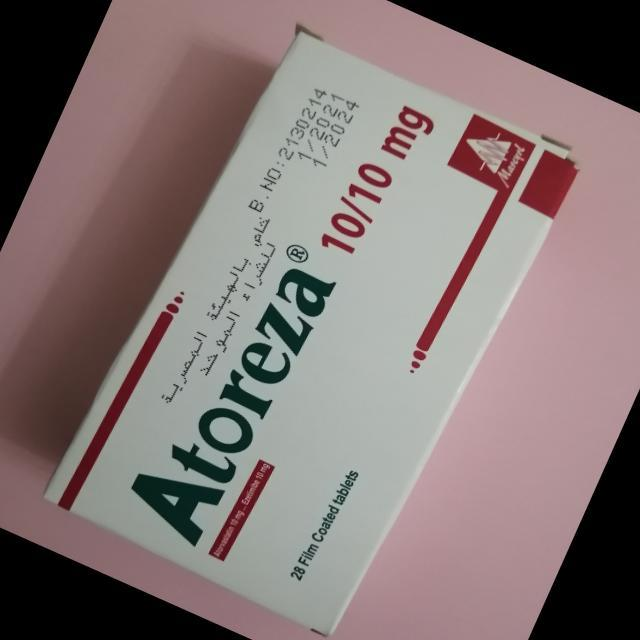Medicine Name: (122, 451, 225, 545), (191, 398, 261, 461), (273, 261, 337, 320), (166, 436, 240, 487), (254, 300, 315, 355), (236, 336, 297, 390), (219, 368, 277, 419)
